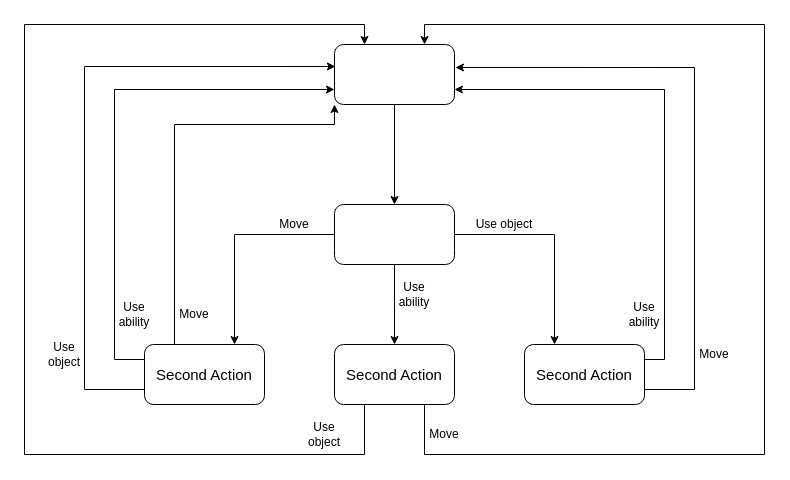
Some shapes in this 790 by 480 pixel diagram are drawn without their labels. Each missing label, with the centre of its shape:
"First Action" goes at [394,234].
"Wait turn" goes at [394,74].
